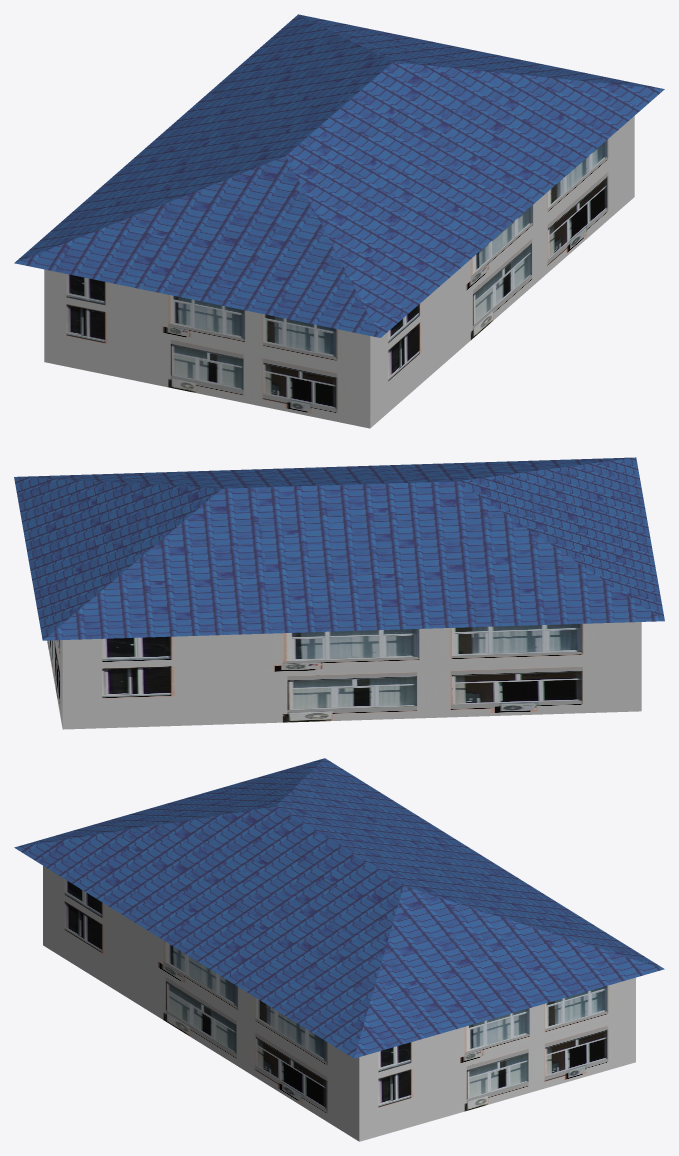
3 views of the same model, one above another, from view 1: azimuth 30°, elevation 25°; view 2: azimuth 150°, elevation 25°; view 3: azimuth 270°, elevation 25° (orthographic). The views are drawn at different scales.
Parts seen in each view (by area): view 1: CityEngineMaterial_10_m, CityEngineMaterial_9_m; view 2: CityEngineMaterial_10_m, CityEngineMaterial_9_m; view 3: CityEngineMaterial_10_m, CityEngineMaterial_9_m.
Part boxes in pixels (box(x1,y1,x2,y2)): CityEngineMaterial_10_m: box(14, 14, 664, 337); CityEngineMaterial_9_m: box(44, 116, 634, 428); CityEngineMaterial_10_m: box(14, 457, 664, 640); CityEngineMaterial_9_m: box(47, 622, 641, 729); CityEngineMaterial_10_m: box(14, 758, 664, 1058); CityEngineMaterial_9_m: box(43, 866, 635, 1141).
Bounding box in the file's own units: 31.89 × 7.8 × 29.19.
